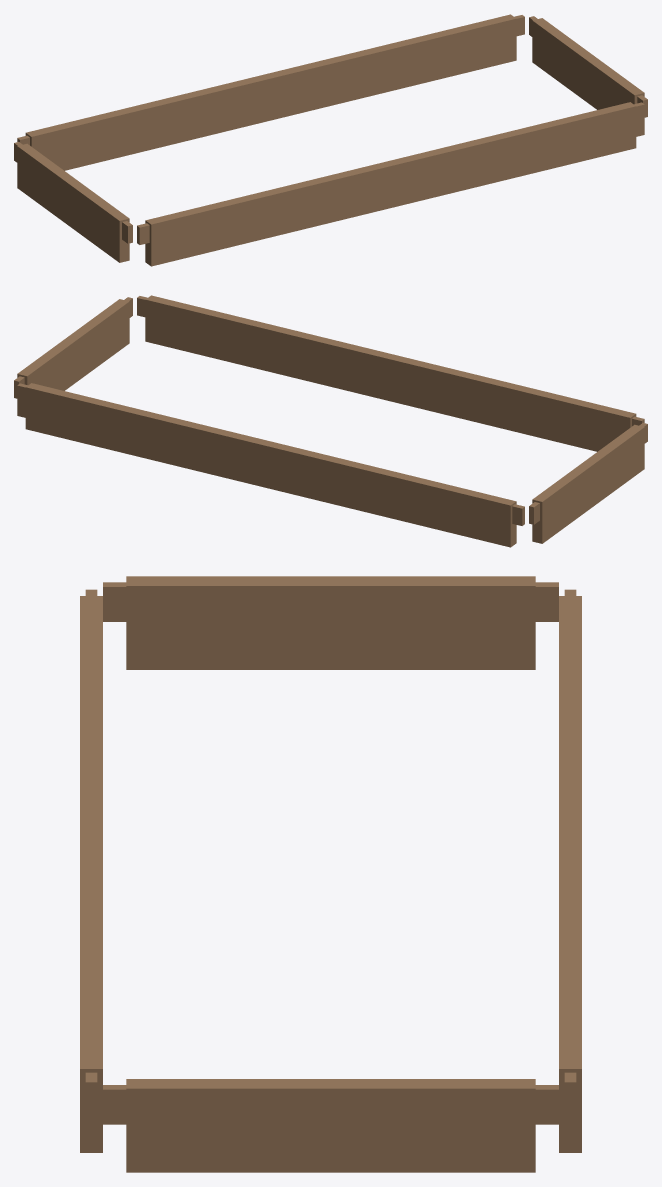
The model's file is Aprons_Straight.glb.
3 views of the same model, one above another, from view 1: azimuth 30°, elevation 25°; view 2: azimuth 150°, elevation 25°; view 3: azimuth 270°, elevation 25° (orthographic). The views are drawn at different scales.
Parts seen in each view (by area): view 1: Aprons_Straight; view 2: Aprons_Straight; view 3: Aprons_Straight.
Part boxes in pixels (x1=…): Aprons_Straight: x1=14, y1=14, x2=647, y2=266; Aprons_Straight: x1=14, y1=295, x2=647, y2=547; Aprons_Straight: x1=80, y1=576, x2=581, y2=1172.
Size of the model in its own units: 0.997 by 0.0762 by 0.4128.
